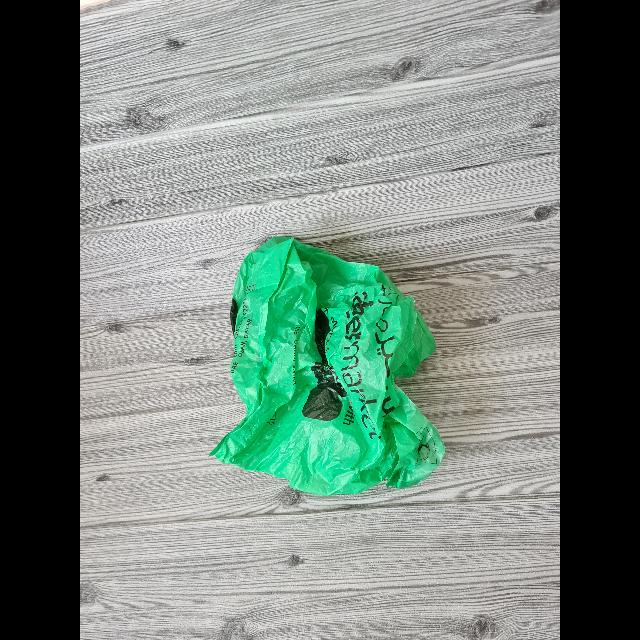plastic_bag: (206, 247, 439, 496)
